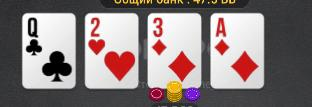2h: (86, 15, 138, 88)
3d: (150, 15, 200, 88)
Ad: (212, 15, 262, 88)
Qc: (23, 15, 74, 87)
